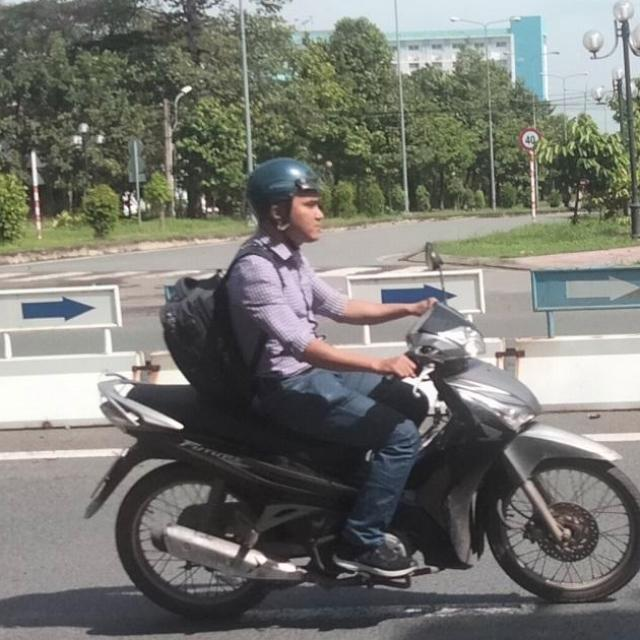Helmet: (245, 158, 326, 246)
